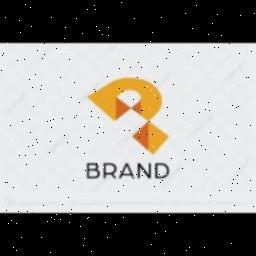a: (119, 161, 135, 181)
b: (86, 162, 100, 180)
d: (153, 162, 171, 180)
n: (136, 161, 152, 179)
r: (103, 162, 117, 180)
